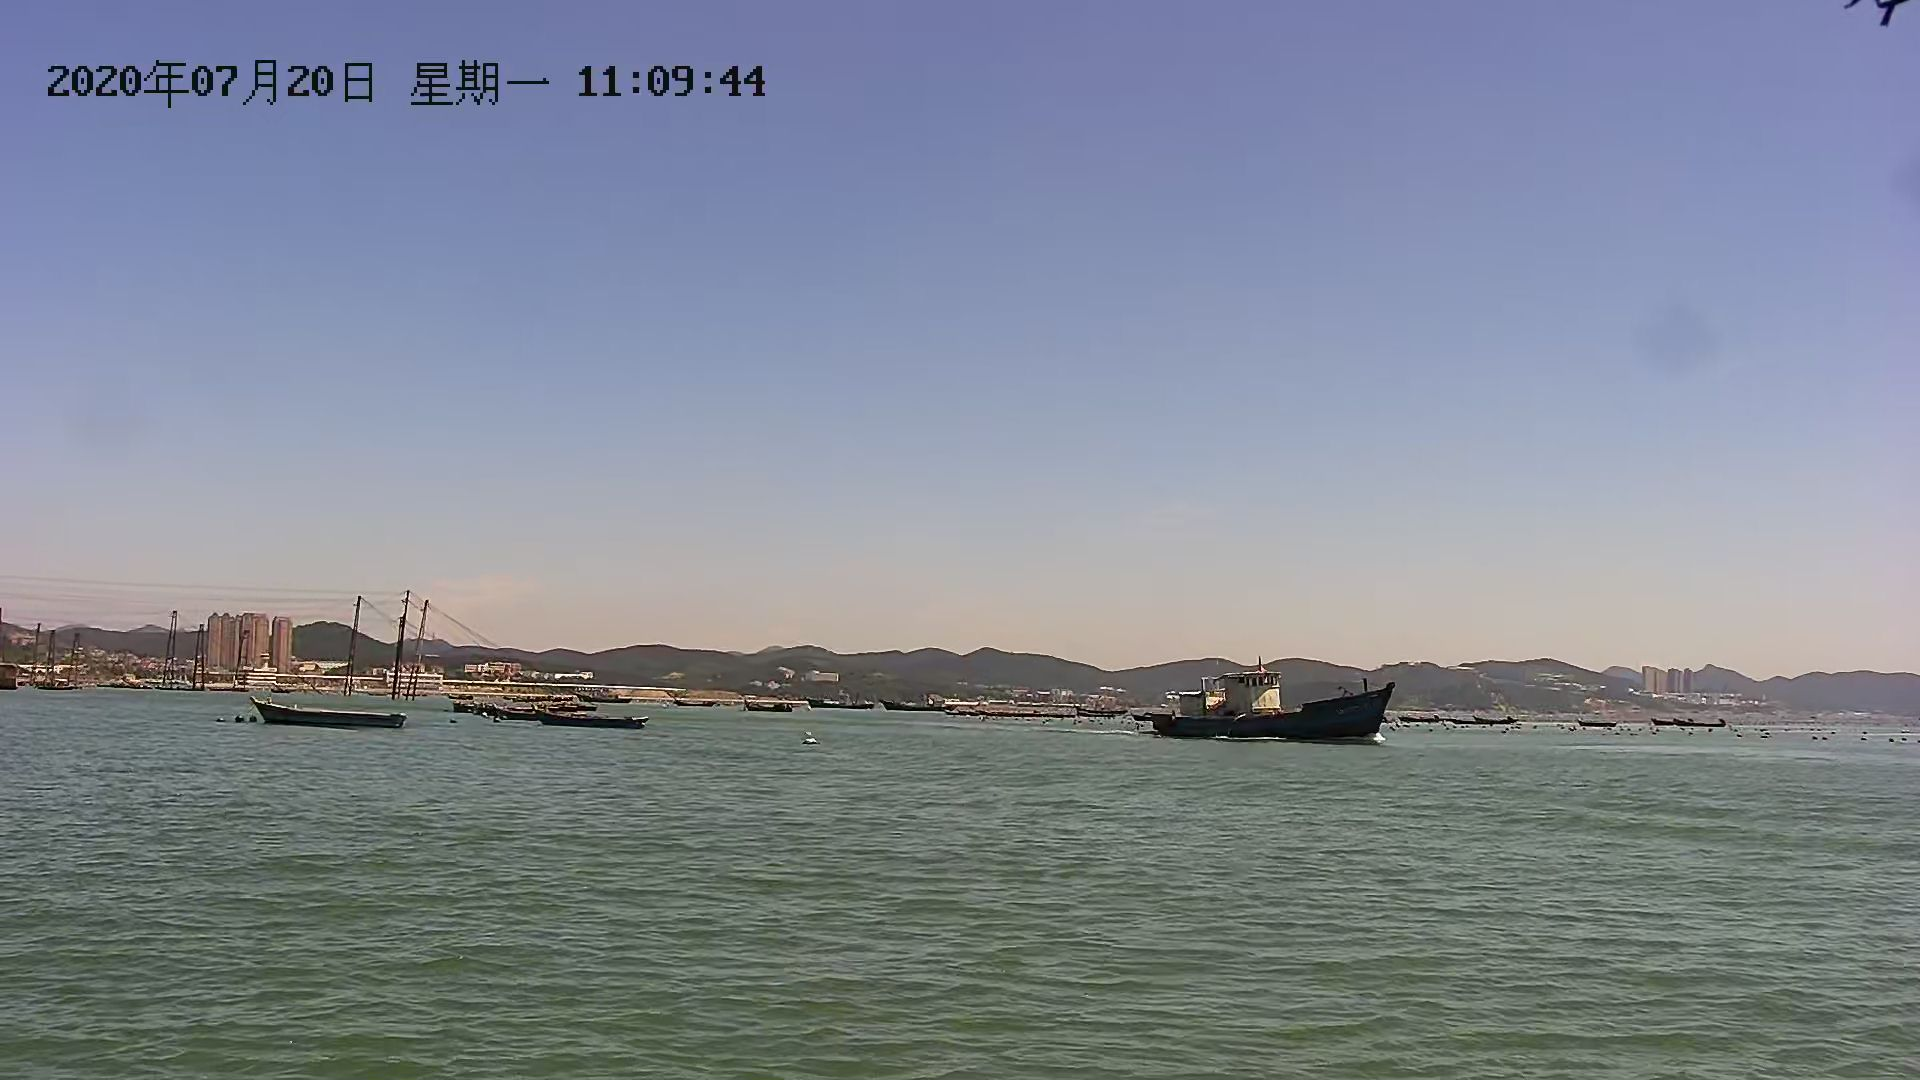boat: (245, 691, 417, 732), (534, 709, 659, 732), (456, 698, 588, 719)
ship: (1133, 653, 1403, 752)
